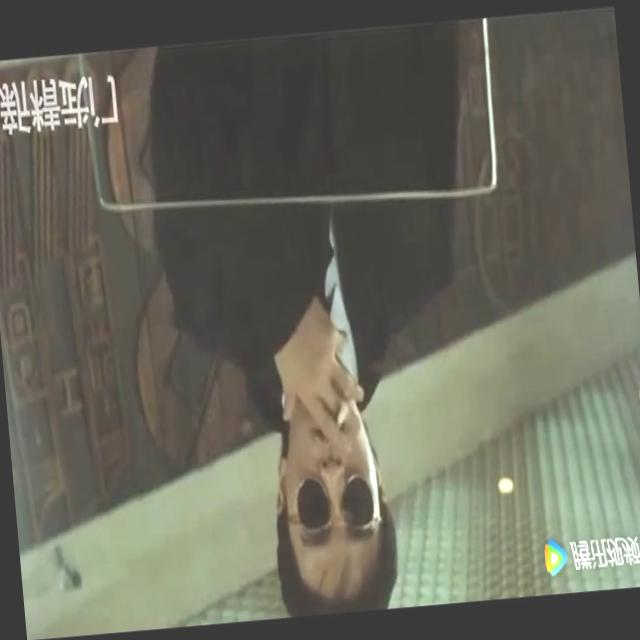smoke: (332, 399, 352, 432)
